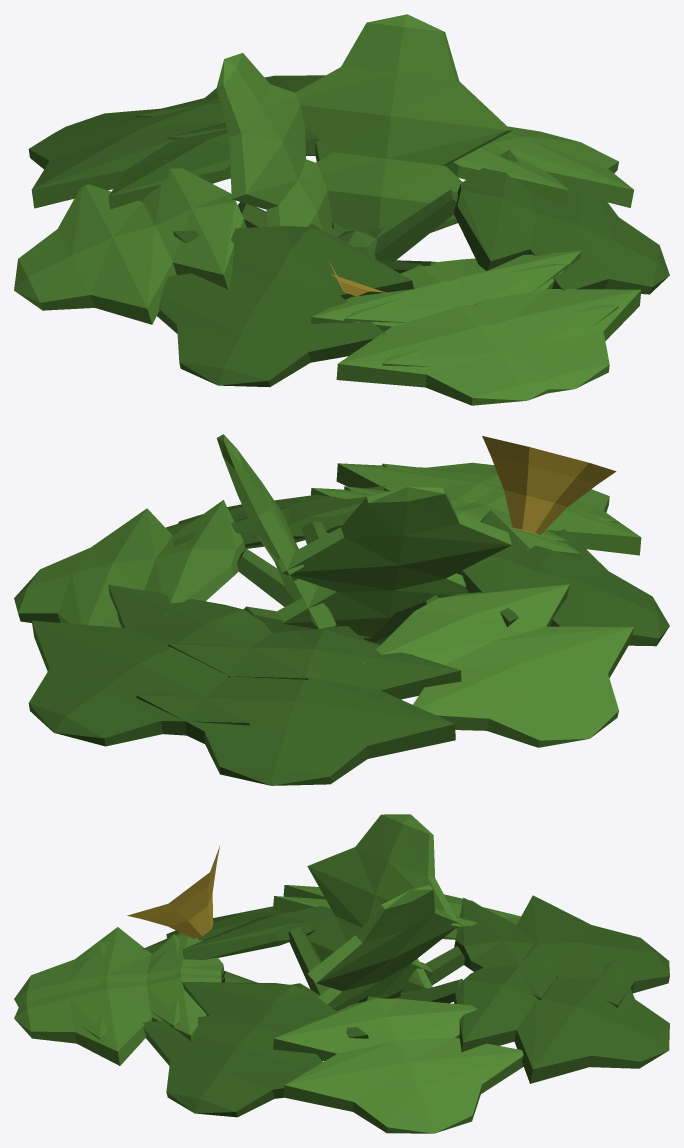
The model's file is watermelon_2.gltf.
3 renders of one model, top to bottom at view 1: azimuth 30°, elevation 25°; view 2: azimuth 150°, elevation 25°; view 3: azimuth 270°, elevation 25°, orthographic. The views are drawn at different scales.
Visible parts, largest first — view 1: watermelon_2; view 2: watermelon_2; view 3: watermelon_2.
Part boxes in pixels (x1,y1,x2,y2): watermelon_2: (14,14,669,405); watermelon_2: (14,434,669,785); watermelon_2: (14,814,669,1133).
Size of the model in its own units: 0.5399 by 0.2 by 0.6286.
